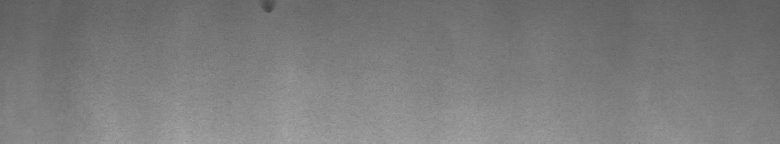fi: (259, 4, 277, 20)
